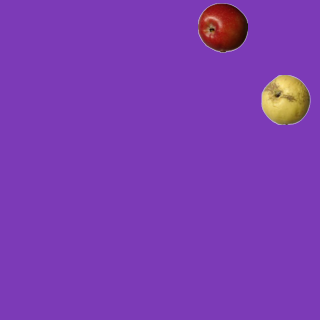Apple Braeburn: (197, 2, 247, 52)
Apple Golden 1: (260, 74, 310, 124)
